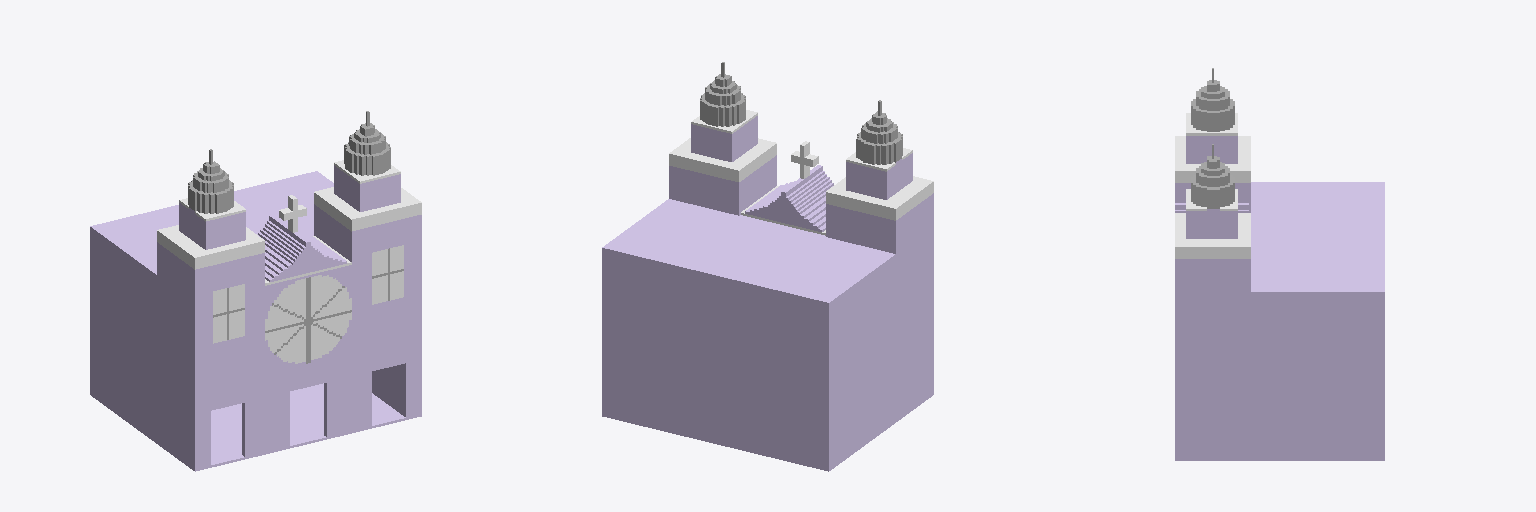
3 views of the same model, side by side, from view 1: azimuth 30°, elevation 25°; view 2: azimuth 150°, elevation 25°; view 3: azimuth 270°, elevation 25° (orthographic).
Bounding box in the file's own units: 100 × 126 × 80.
1 materials, 1 textured.